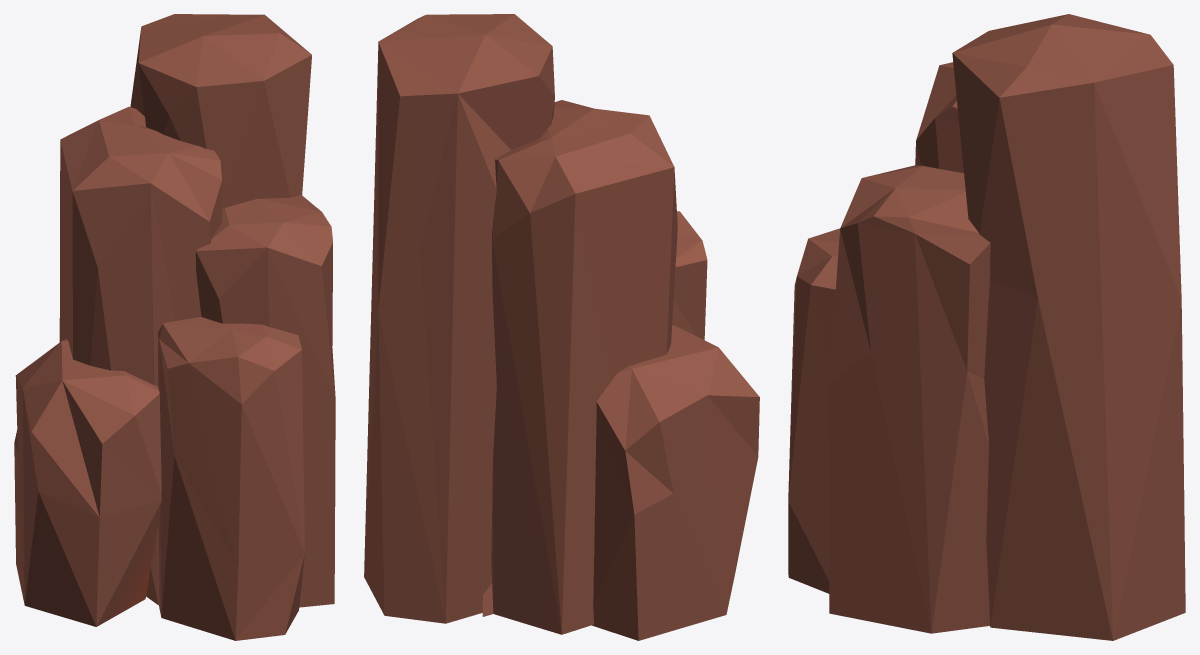
The model's file is crag_011.fbx.
The picture shows the model from 3 angles, left to right: view 1: azimuth 30°, elevation 25°; view 2: azimuth 150°, elevation 25°; view 3: azimuth 270°, elevation 25°; orthographic projection. The views are drawn at different scales.
Visible parts, largest first — view 1: crag_011; view 2: crag_011; view 3: crag_011.
Boxes of the visible parts, x1,y1,x2,y2 form: crag_011: (14,14,335,640); crag_011: (364,14,759,640); crag_011: (788,14,1185,640).
Size of the model in its own units: 1993 by 2016 by 3201.
